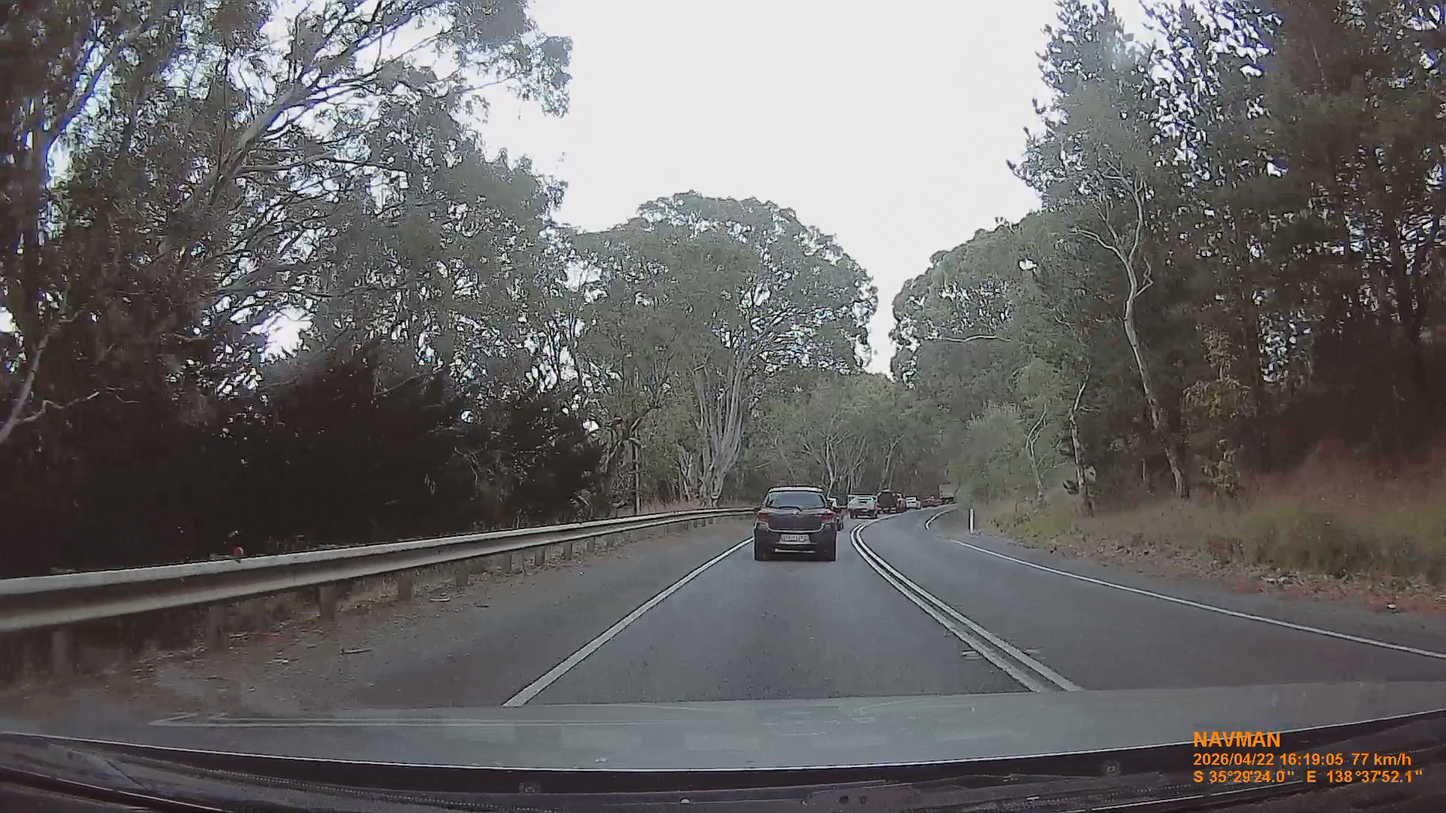road barriers: (0, 510, 740, 649), (577, 508, 757, 536)
